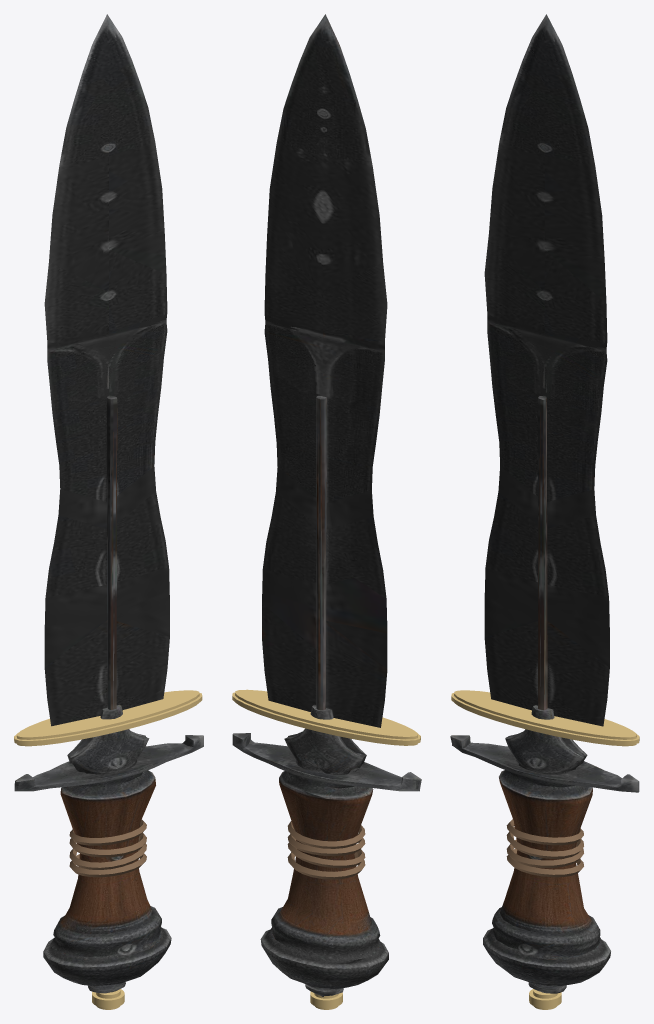
File: weap_roman_pugio_0.glb
3 renders of one model, left to right at view 1: azimuth 30°, elevation 25°; view 2: azimuth 150°, elevation 25°; view 3: azimuth 330°, elevation 25°, orthographic.
Parts seen in each view (by area): view 1: MeshyGear_weap_roman_pugio, Q_GE3_GuardPlate, Q_LE0_RepairThong, Q_GE4_PommelRivet; view 2: MeshyGear_weap_roman_pugio, Q_GE3_GuardPlate, Q_LE0_RepairThong, Q_GE4_PommelRivet; view 3: MeshyGear_weap_roman_pugio, Q_GE3_GuardPlate, Q_LE0_RepairThong, Q_GE4_PommelRivet.
Boxes of the visible parts, x1=… form: MeshyGear_weap_roman_pugio: x1=14, y1=14, x2=203, y2=993; Q_GE3_GuardPlate: x1=14, y1=690, x2=202, y2=746; Q_LE0_RepairThong: x1=69, y1=819, x2=146, y2=877; Q_GE4_PommelRivet: x1=92, y1=989, x2=124, y2=1009; MeshyGear_weap_roman_pugio: x1=232, y1=14, x2=421, y2=996; Q_GE3_GuardPlate: x1=232, y1=689, x2=420, y2=745; Q_LE0_RepairThong: x1=287, y1=821, x2=365, y2=879; Q_GE4_PommelRivet: x1=310, y1=991, x2=342, y2=1009; MeshyGear_weap_roman_pugio: x1=450, y1=14, x2=639, y2=993; Q_GE3_GuardPlate: x1=451, y1=690, x2=639, y2=746; Q_LE0_RepairThong: x1=506, y1=819, x2=583, y2=877; Q_GE4_PommelRivet: x1=529, y1=989, x2=561, y2=1009.
Bounding box in the file's own units: 0.0662 × 0.3335 × 0.0294.
Materials: 3 (1 with a texture image).
